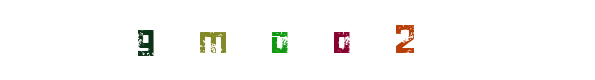2: (335, 0, 415, 80)
G: (162, 0, 242, 80)
M: (178, 0, 258, 80)
O: (232, 0, 312, 80), (258, 0, 338, 80)
